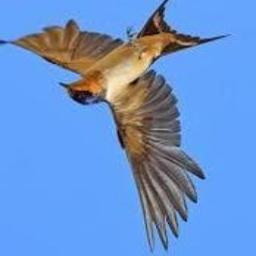Swallow: (0, 0, 232, 253)
